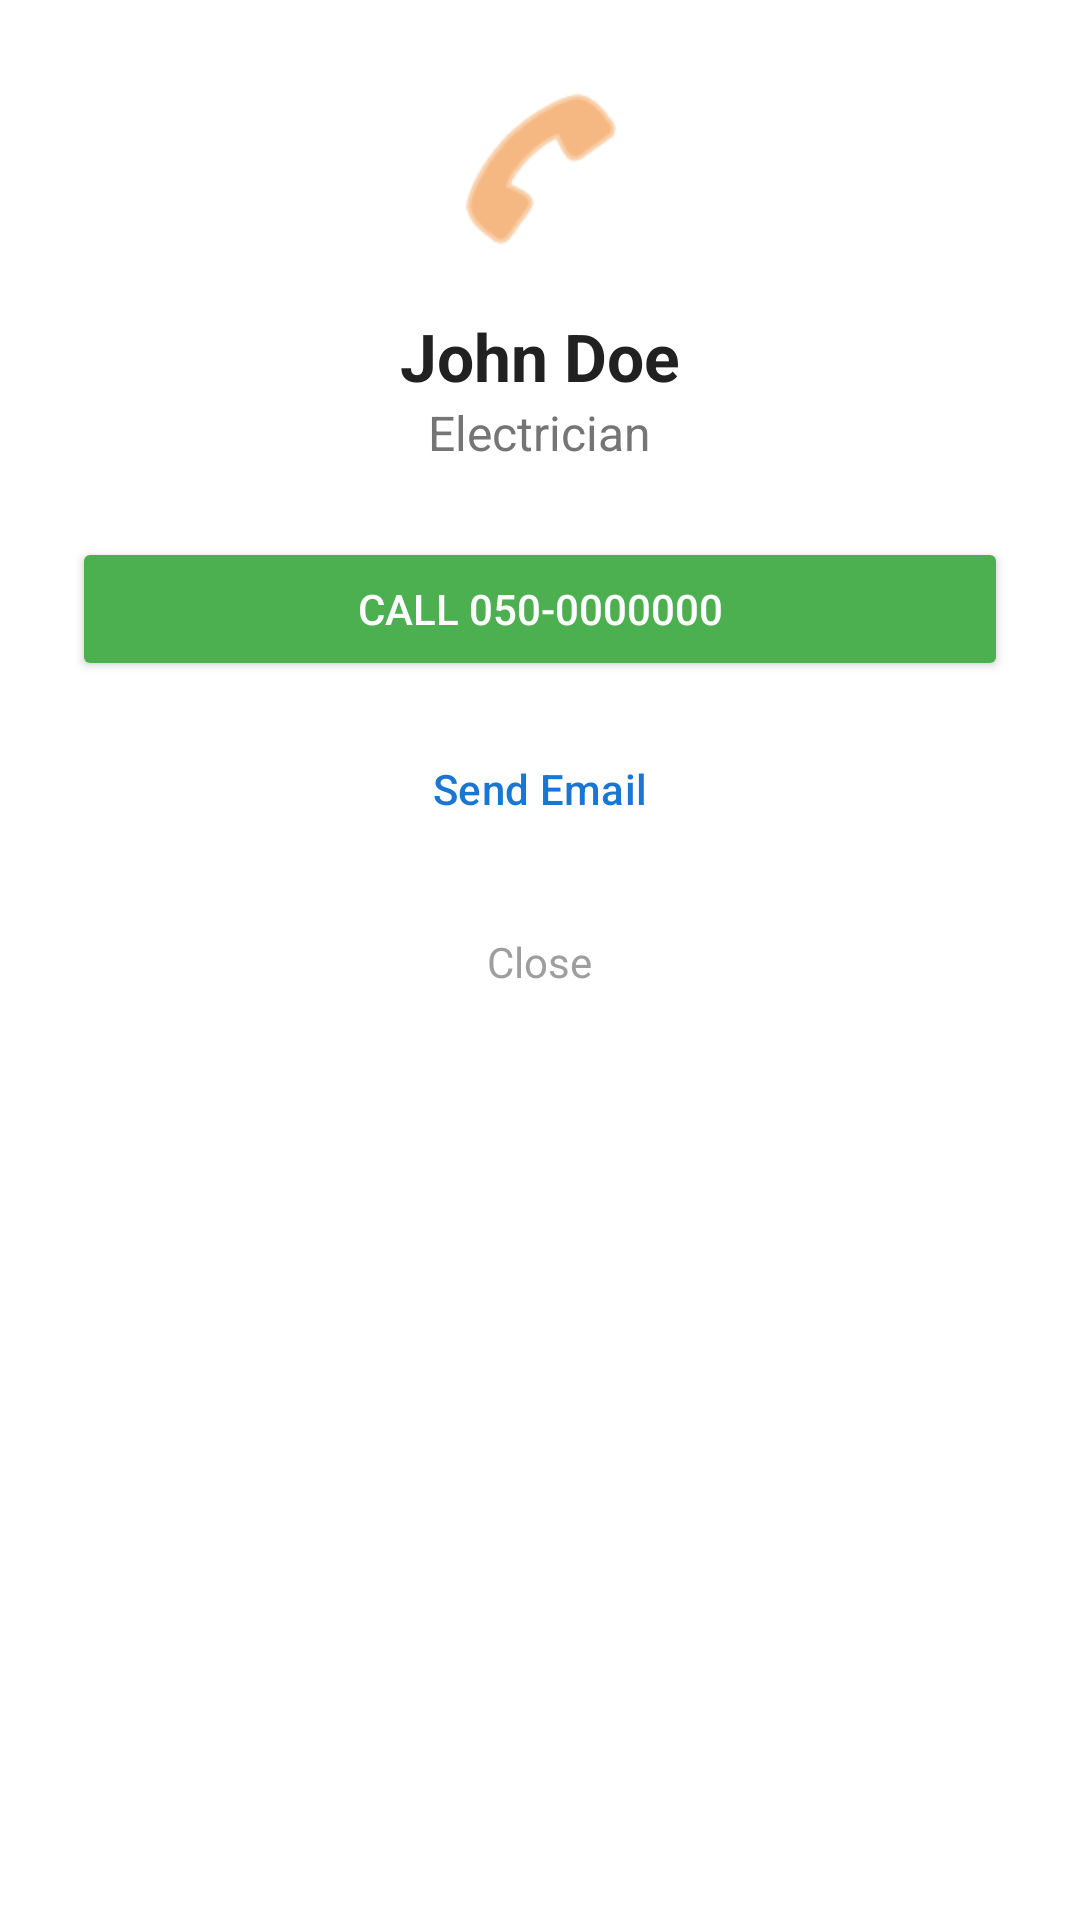

Named icons in this screenshot (1080 × 1920) and their bounding boxes, (x1, y1, x2, y2):
call: (466, 94, 616, 244)
